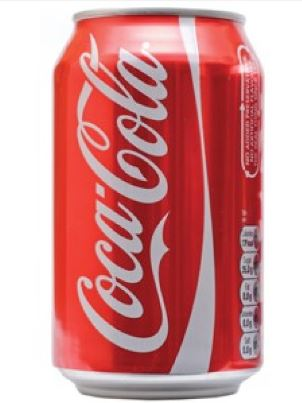can: (51, 4, 271, 402)
